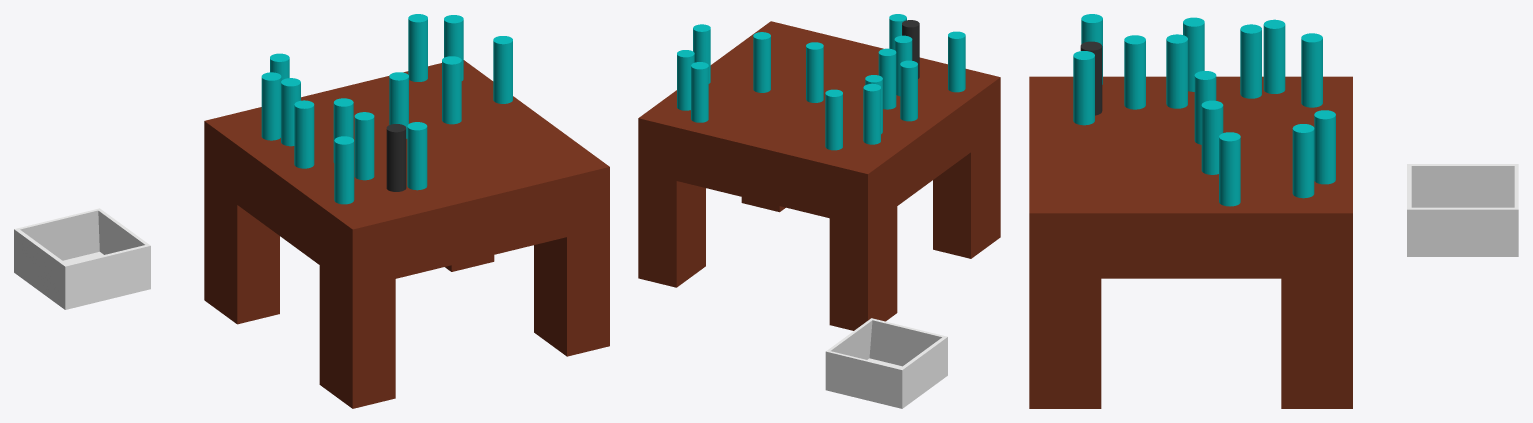
File: can_world_14_cans.dae
3 views of the same model, side by side, from view 1: azimuth 30°, elevation 25°; view 2: azimuth 150°, elevation 25°; view 3: azimuth 270°, elevation 25° (orthographic). The views are drawn at different scales.
Visible parts, largest first — view 1: base (×17), SketchUp (×2); view 2: base (×17), SketchUp (×2); view 3: base (×17), SketchUp (×2).
Part boxes in pixels (x1,y1,x2,y2): base (×17): (204,14,609,408); SketchUp (×2): (14,208,150,309); base (×17): (638,14,1000,330); SketchUp (×2): (825,318,947,408); base (×17): (1029,14,1352,408); SketchUp (×2): (1407,164,1518,256).
Size of the model in its own units: 1.3 by 1.36 by 0.811.
